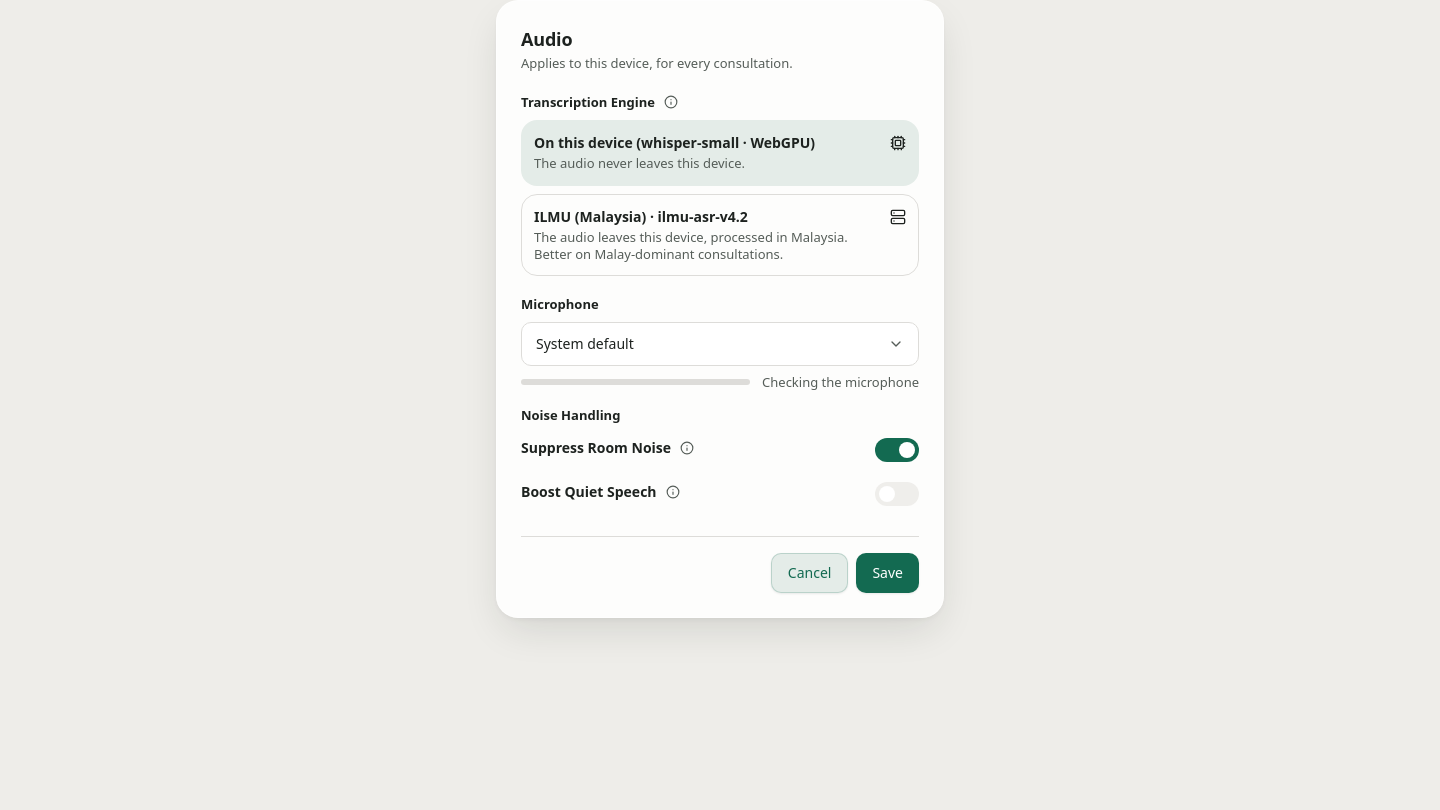
Test case: the Audio dialog and the control it describes › scopes the engine choice to press-to-record, which is the only path it governs
Click the button named "About Transcription Engine" at (671, 102), box [661,92,681,112]
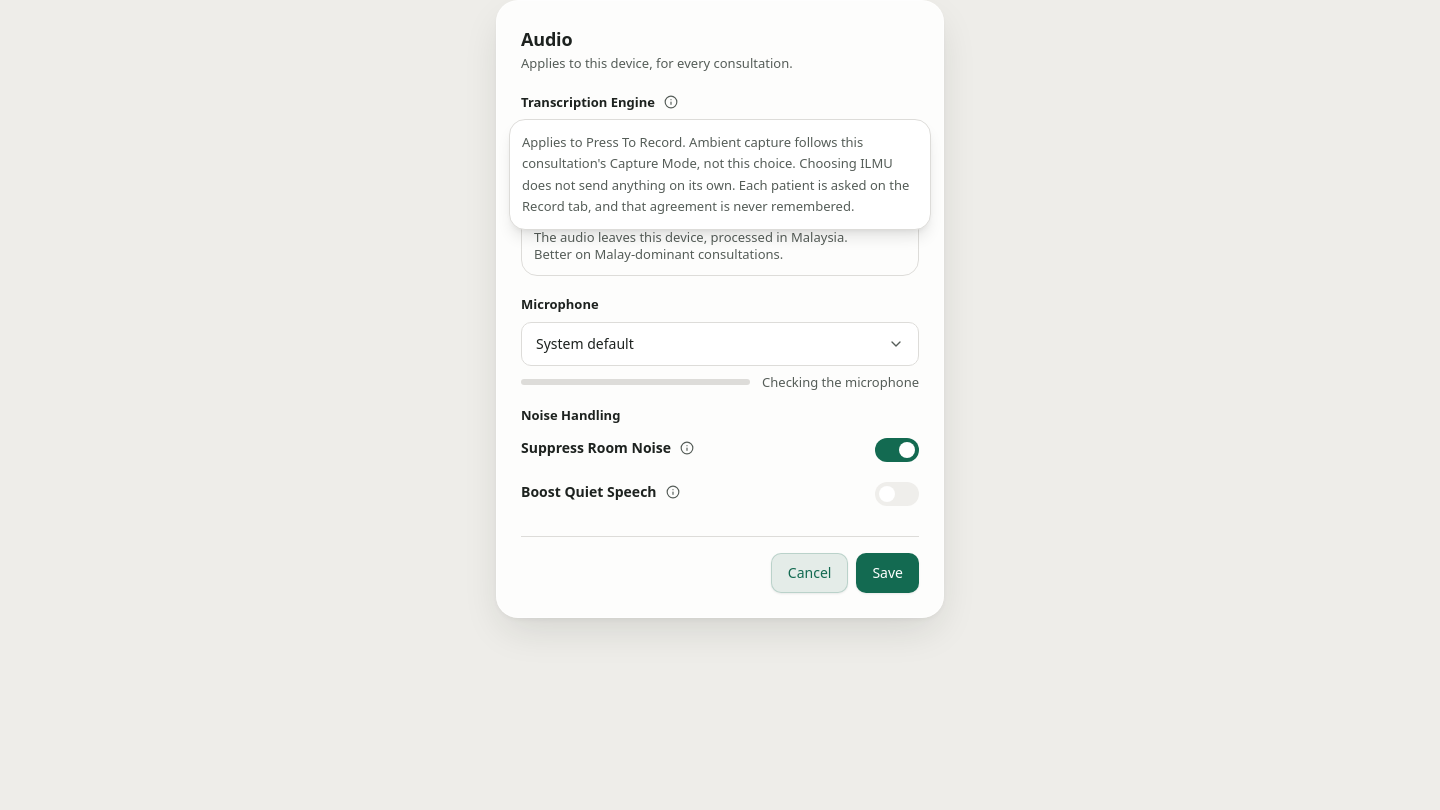
Expected: the tooltip "Applies to Press To Record" is shown, [522,133,909,215]
